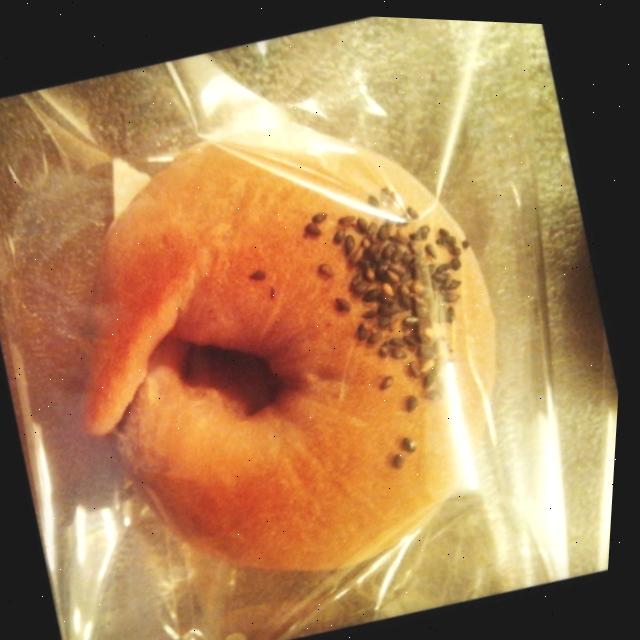面包点心: (12, 76, 568, 622)
